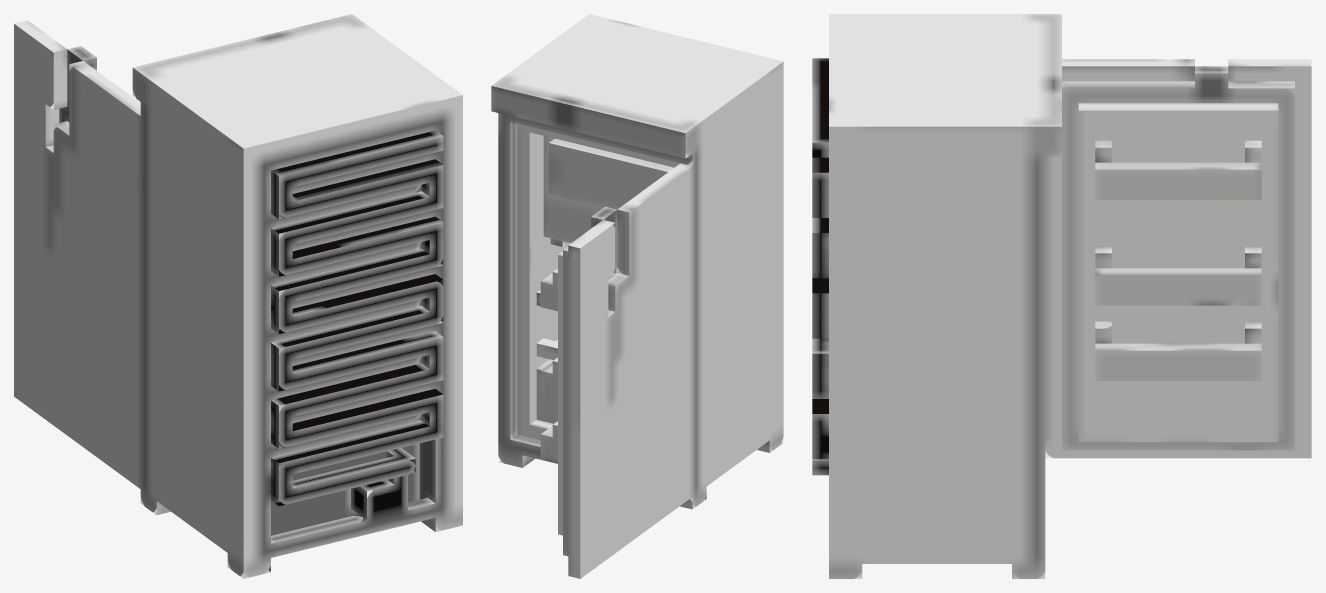
The model's file is Geladeira.fbx.
3 views of the same model, side by side, from view 1: azimuth 30°, elevation 25°; view 2: azimuth 150°, elevation 25°; view 3: azimuth 270°, elevation 25° (orthographic). The views are drawn at different scales.
Parts seen in each view (by area): view 1: Geladeira.001; view 2: Geladeira.001; view 3: Geladeira.001.
Part boxes in pixels (x1,y1,x2,y2): Geladeira.001: (14,14,462,578); Geladeira.001: (491,14,783,578); Geladeira.001: (812,14,1311,578).
Bounding box in the file's own units: 1.6 × 3 × 3.
1 material, 1 textured.
